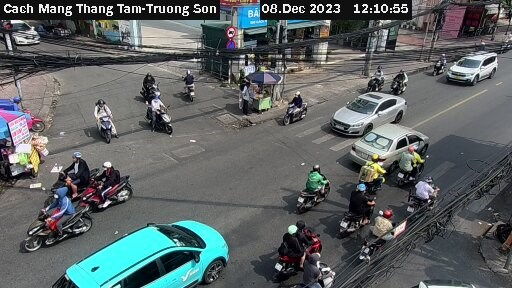car: (57, 221, 234, 288), (328, 87, 406, 139), (344, 122, 430, 168), (447, 50, 504, 84)
motorbike: (11, 195, 95, 246), (264, 227, 329, 269), (82, 161, 142, 206), (348, 212, 401, 258), (84, 101, 131, 145), (295, 165, 338, 210), (46, 153, 97, 190), (139, 98, 186, 136), (330, 190, 370, 228), (402, 175, 440, 215), (350, 151, 388, 188), (131, 70, 173, 102), (277, 91, 315, 126), (179, 68, 219, 101), (388, 66, 421, 100), (391, 146, 426, 176), (358, 62, 394, 91), (420, 50, 455, 75)
